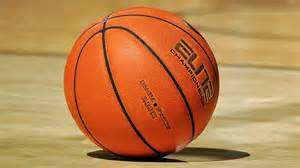basketball: (62, 6, 220, 161)
